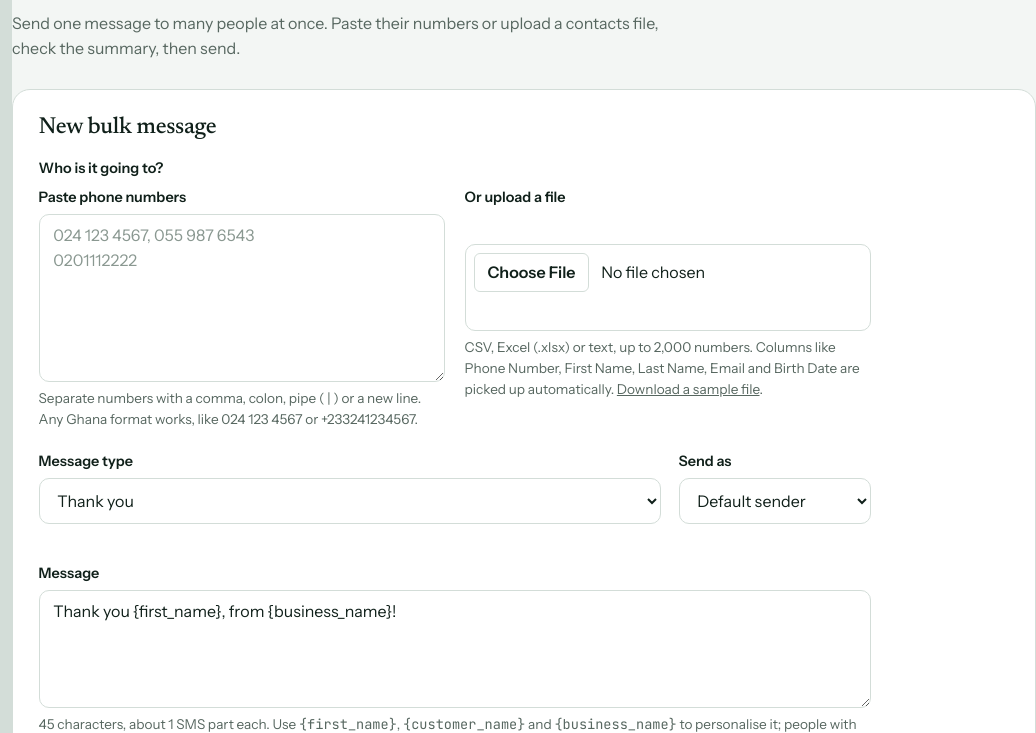
Test: BulkSend › warns when the daily limit only covers part of the list
This screenshot has width=1036, height=733.
Click the text box labelled "Paste phone numbers".
click(242, 298)  # box [39, 214, 445, 382]
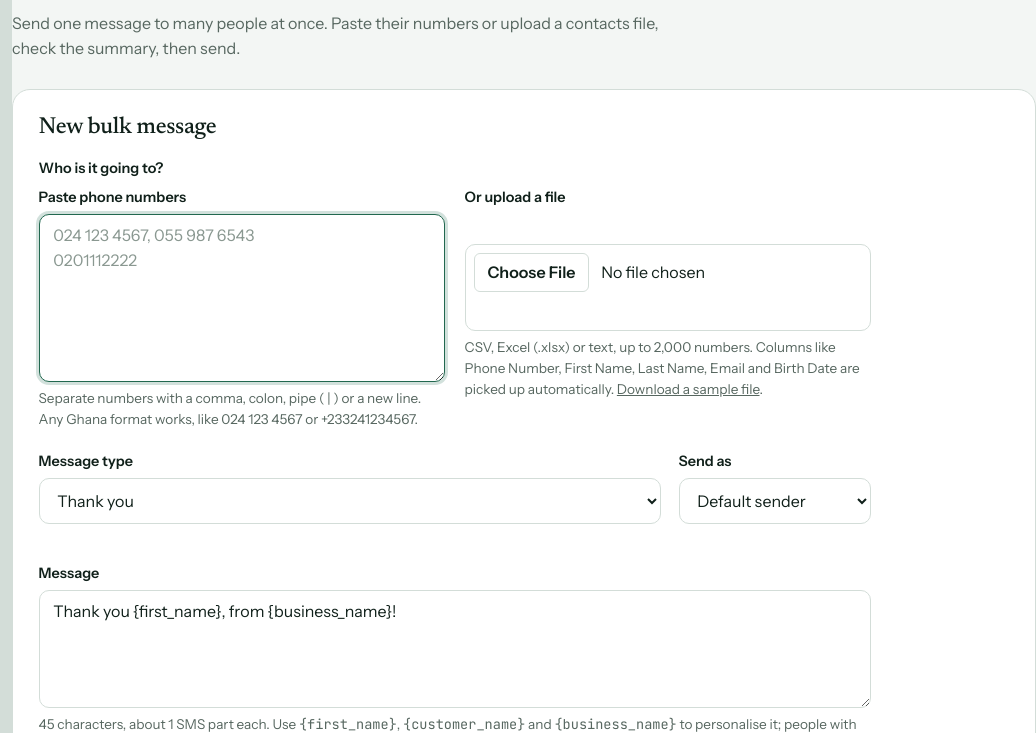
Type keys "0241234567, 0551234567"
(page scrolled)
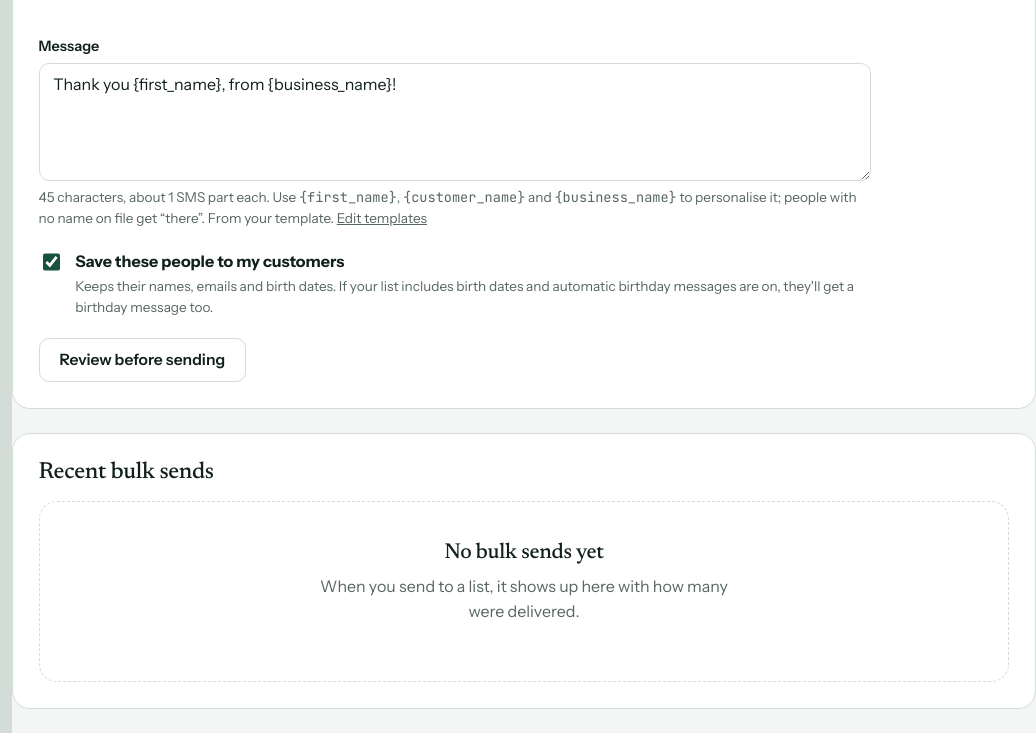
Click the button "Review before sending".
click(142, 360)  # box [39, 338, 246, 382]
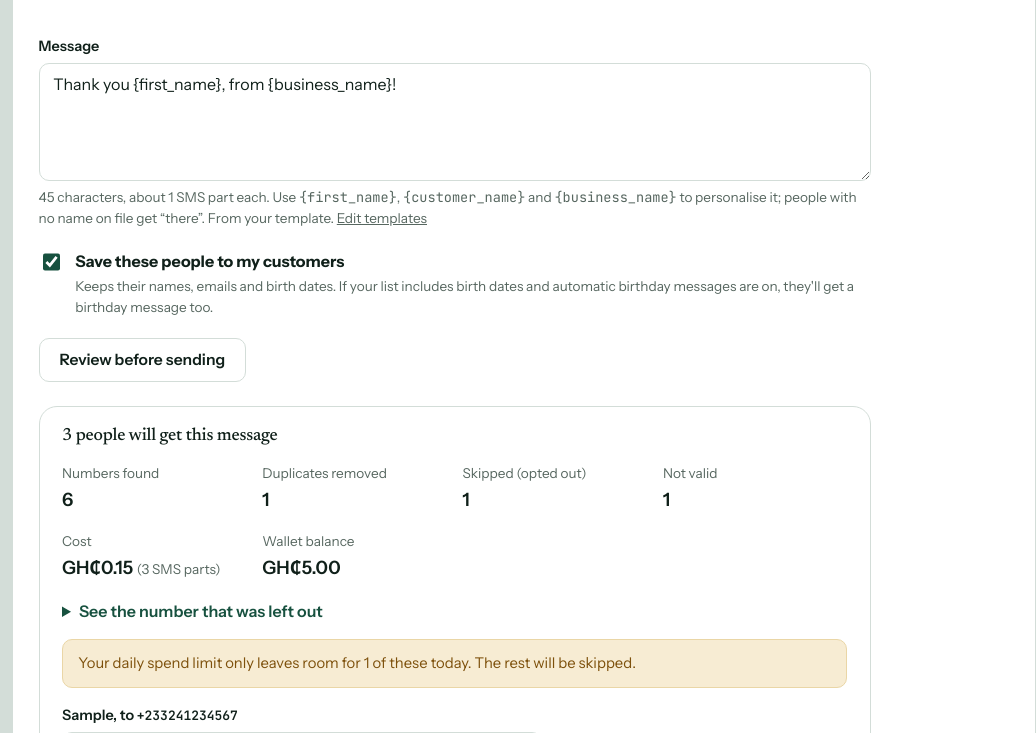
Expected: the text "room for 1 of these today" is shown, [62, 639, 847, 688]
